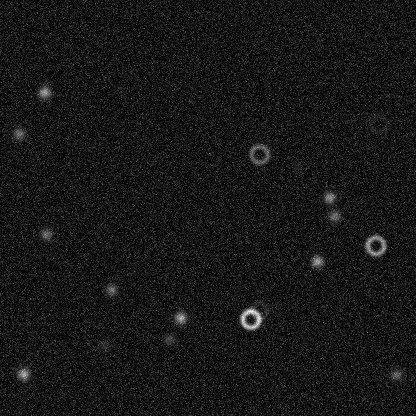Ring: (246, 298, 270, 322), (238, 307, 262, 331), (366, 111, 390, 135), (363, 233, 387, 257), (247, 142, 271, 166)
Spot: (309, 253, 325, 269), (289, 157, 305, 173), (161, 331, 177, 347), (103, 281, 119, 297), (37, 226, 53, 242), (96, 337, 112, 353), (172, 309, 188, 325), (321, 189, 337, 205), (326, 207, 342, 223), (388, 366, 404, 382), (36, 84, 52, 100), (15, 365, 31, 381), (10, 125, 26, 141)
